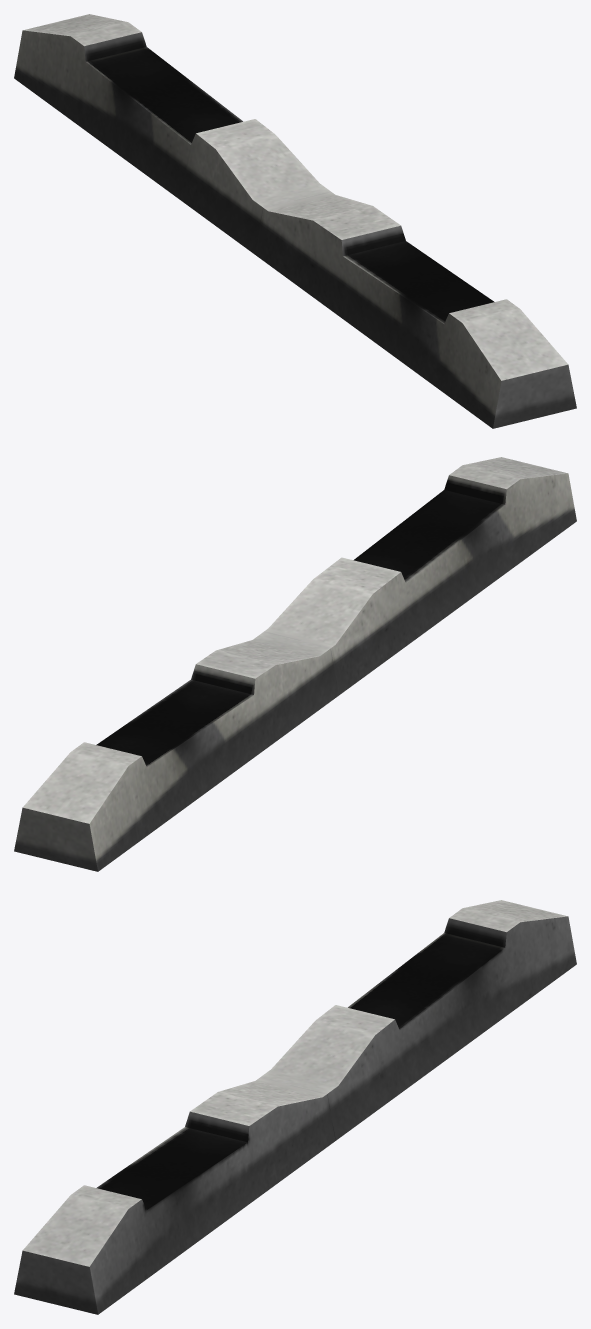
The model's file is spala_only 1.fbx.
3 views of the same model, one above another, from view 1: azimuth 30°, elevation 25°; view 2: azimuth 150°, elevation 25°; view 3: azimuth 330°, elevation 25° (orthographic).
Visible parts, largest first — view 1: spala_only; view 2: spala_only; view 3: spala_only.
Boxes of the visible parts, bbox=[...] form: spala_only: bbox=[14, 14, 576, 428]; spala_only: bbox=[14, 457, 576, 871]; spala_only: bbox=[14, 900, 576, 1314].
Size of the model in its own units: 28.44 by 22.85 by 281.
